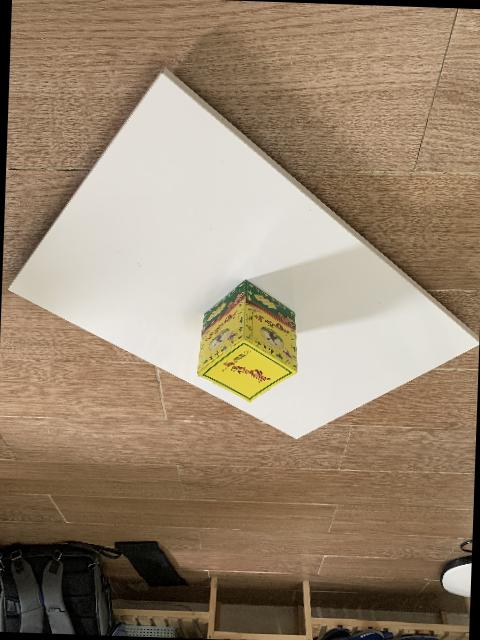luong_kho: (196, 279, 297, 402)
